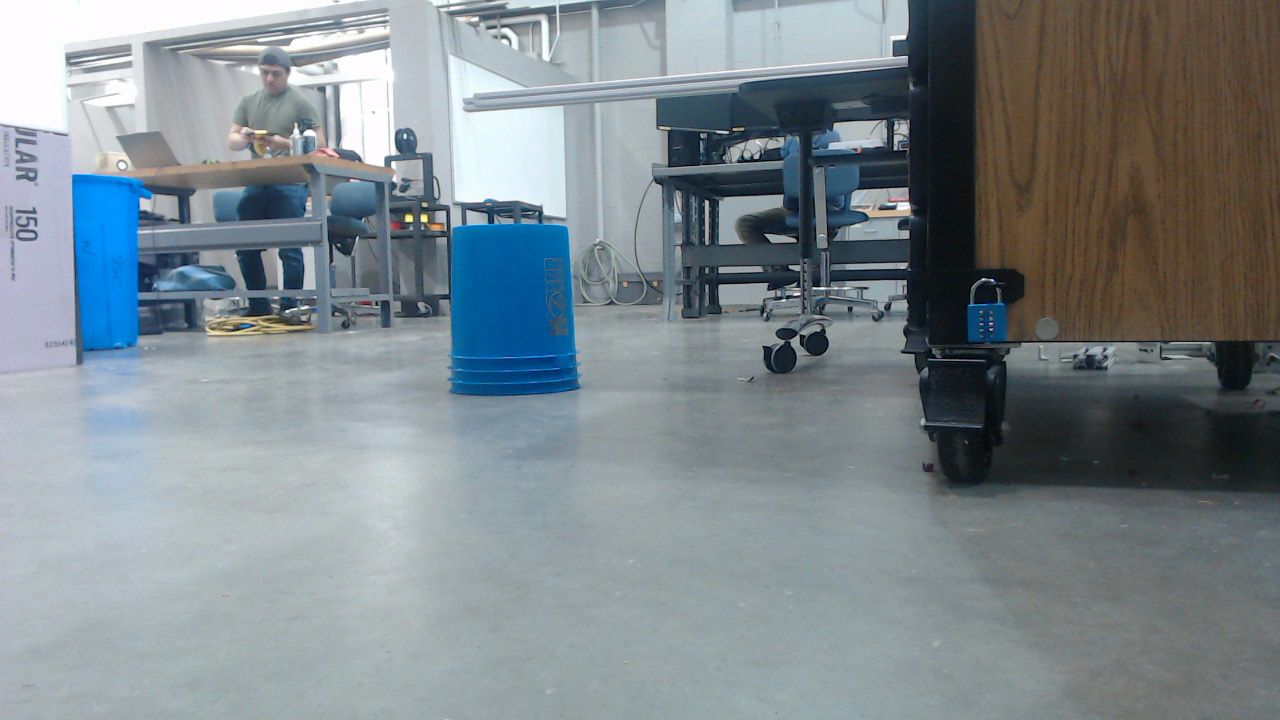blue_bucket: (452, 227, 584, 402)
